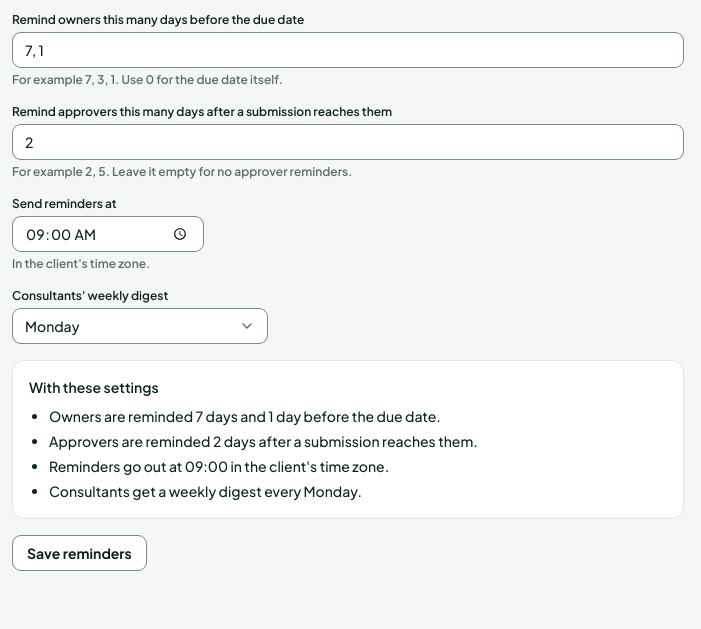
Test: RemindersForm › shows a refused save
The width and height of the screenshot is (701, 629).
Click the button "Save reminders": (79, 553) [12,535,147,571]
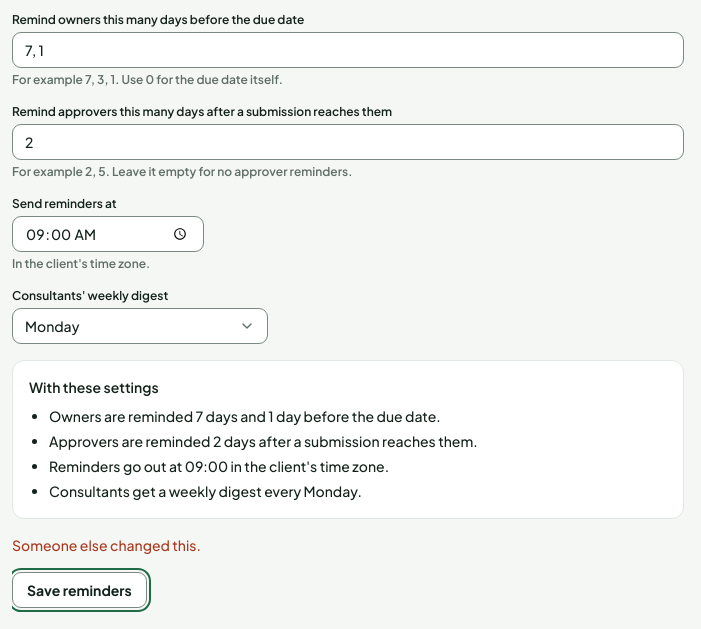
Result: the message reads "Someone else changed this." at [12,536,201,554]
